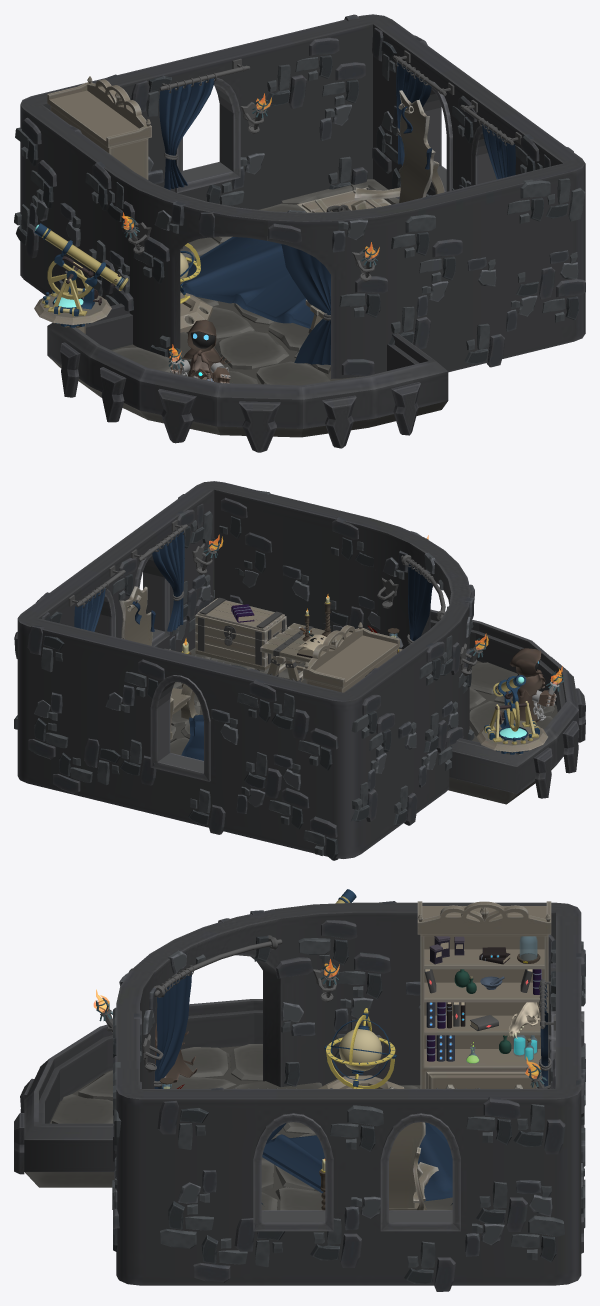
The model's file is laboratory.glb.
3 views of the same model, one above another, from view 1: azimuth 30°, elevation 25°; view 2: azimuth 150°, elevation 25°; view 3: azimuth 270°, elevation 25° (orthographic). The views are drawn at different scales.
Visible parts, largest first — view 1: Mauerwerk, object 43, Boden, Walls2, Walls, Teppich, Curtain, Walls6, Windows, Schrank, Stuhl, Walls4 (+9 smaller); view 2: Mauerwerk, Walls2, object 43, Walls6, Windows, Walls, Boden, Kiste, Schrank, Curtain, Walls4, Walls3 (+10 smaller); view 3: Mauerwerk, Schrank, object 43, Boden, Walls2, Walls, Windows, Walls6, Teppich, Vorhangstange, Weltkugel, Walls4 (+14 smaller).
Part boxes in pixels (<box>): Mauerwerk: <box>20,14,585,378</box>; object 43: <box>47,303,448,452</box>; Boden: <box>47,179,447,437</box>; Walls2: <box>22,14,585,375</box>; Walls: <box>15,54,585,349</box>; Teppich: <box>182,237,314,328</box>; Curtain: <box>159,50,521,190</box>; Walls6: <box>16,41,579,364</box>; Windows: <box>175,77,496,192</box>; Schrank: <box>47,76,151,179</box>; Stuhl: <box>350,90,444,210</box>; Walls4: <box>36,104,578,316</box>; Mauerwerk: <box>17,481,471,858</box>; Walls2: <box>14,494,474,838</box>; object 43: <box>430,609,585,798</box>; Walls6: <box>34,516,471,860</box>; Windows: <box>94,547,210,781</box>; Walls: <box>14,490,466,845</box>; Boden: <box>170,648,557,804</box>; Kiste: <box>195,597,286,670</box>; Schrank: <box>303,622,399,692</box>; Curtain: <box>68,519,241,666</box>; Walls4: <box>34,531,471,807</box>; Walls3: <box>48,520,474,855</box>; Mauerwerk: <box>116,902,581,1285</box>; Schrank: <box>417,901,551,1088</box>; object 43: <box>14,999,262,1174</box>; Boden: <box>25,1044,550,1210</box>; Walls2: <box>113,901,585,1291</box>; Walls: <box>112,938,585,1268</box>; Windows: <box>253,1011,584,1231</box>; Walls6: <box>113,935,585,1283</box>; Teppich: <box>262,1122,452,1201</box>; Vorhangstange: <box>153,935,282,1088</box>; Weltkugel: <box>318,1008,404,1088</box>; Walls4: <box>114,950,582,1245</box>.
Size of the model in its own units: 2 by 0.8603 by 1.96.
22 materials, 22 textured.
